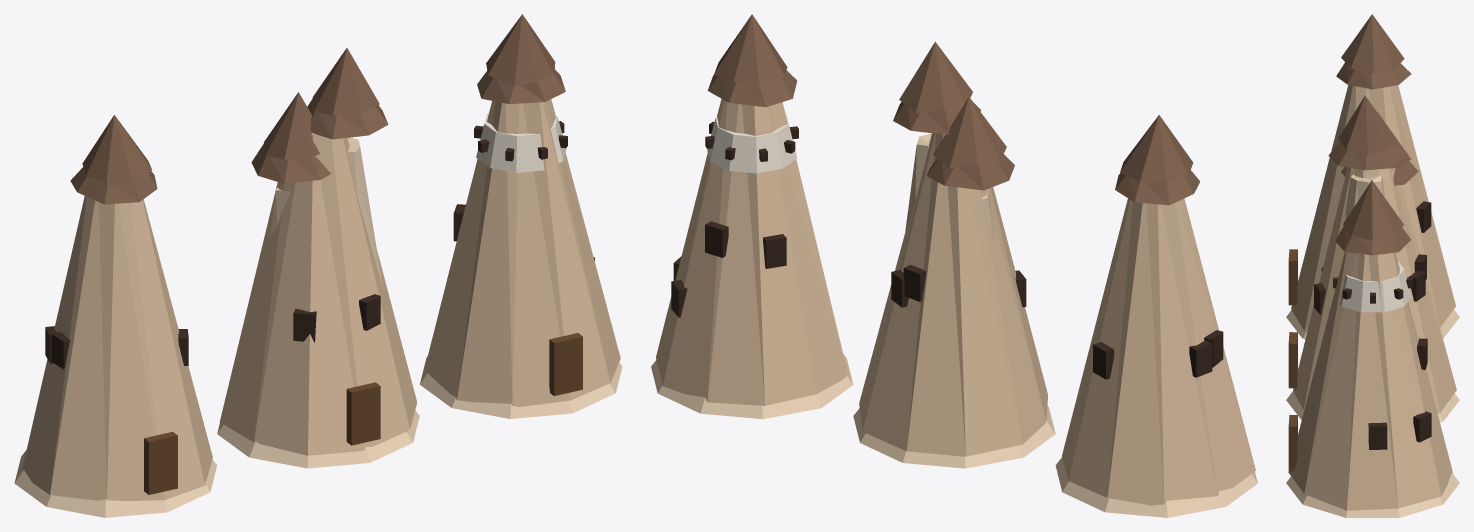
The model's file is goreme.glb.
3 views of the same model, side by side, from view 1: azimuth 30°, elevation 25°; view 2: azimuth 150°, elevation 25°; view 3: azimuth 270°, elevation 25° (orthographic). The views are drawn at different scales.
Parts seen in each view (by area): view 1: chimney_b, chimney_c, chimney_a; view 2: chimney_b, chimney_c, chimney_a; view 3: chimney_c, chimney_b, chimney_a.
Part boxes in pixels (bbox=[...]): chimney_b: bbox=[217, 48, 419, 468]; chimney_c: bbox=[420, 14, 622, 418]; chimney_a: bbox=[14, 115, 216, 517]; chimney_b: bbox=[853, 41, 1055, 468]; chimney_c: bbox=[651, 14, 853, 419]; chimney_a: bbox=[1055, 115, 1257, 517]; chimney_c: bbox=[1286, 180, 1459, 517]; chimney_b: bbox=[1286, 95, 1459, 422]; chimney_a: bbox=[1286, 14, 1459, 339].
Size of the model in its own units: 9.1 by 5.66 by 2.84.
